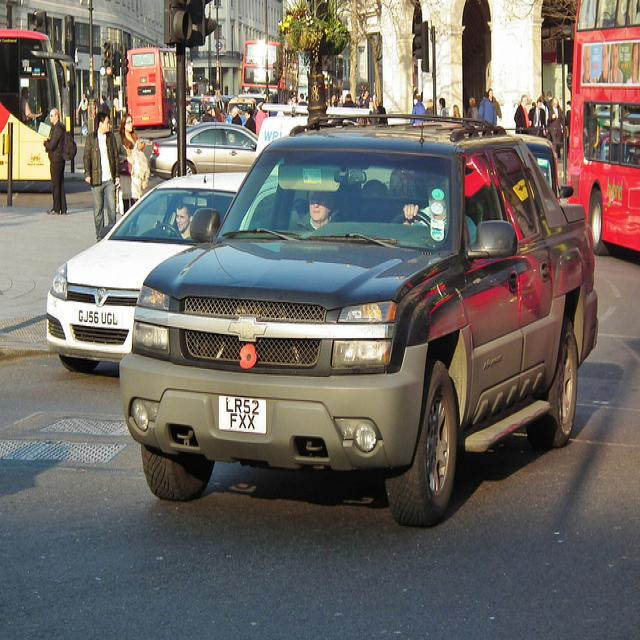Vehicle: (116, 105, 601, 530), (118, 119, 602, 532), (41, 170, 247, 378), (565, 26, 640, 260), (0, 28, 78, 194), (150, 121, 258, 179), (126, 47, 177, 127), (242, 41, 300, 104), (518, 131, 559, 186), (226, 95, 256, 113)
